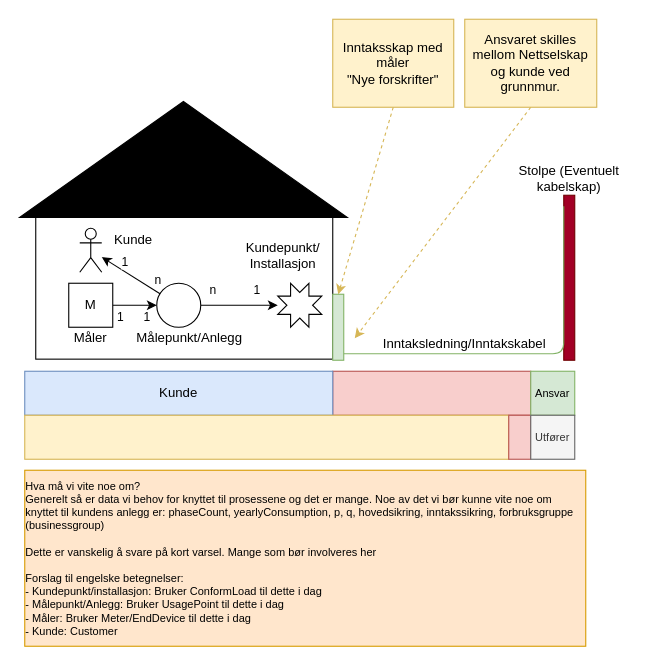
Image size: 655x666. Some labels were removed from this diagram. The centre of each missing label's shape, as x and y in pixels:
"Installatør" belongs at (266,436).
"MP" belongs at (178,304).
"Nettselskap" belongs at (431,392).
